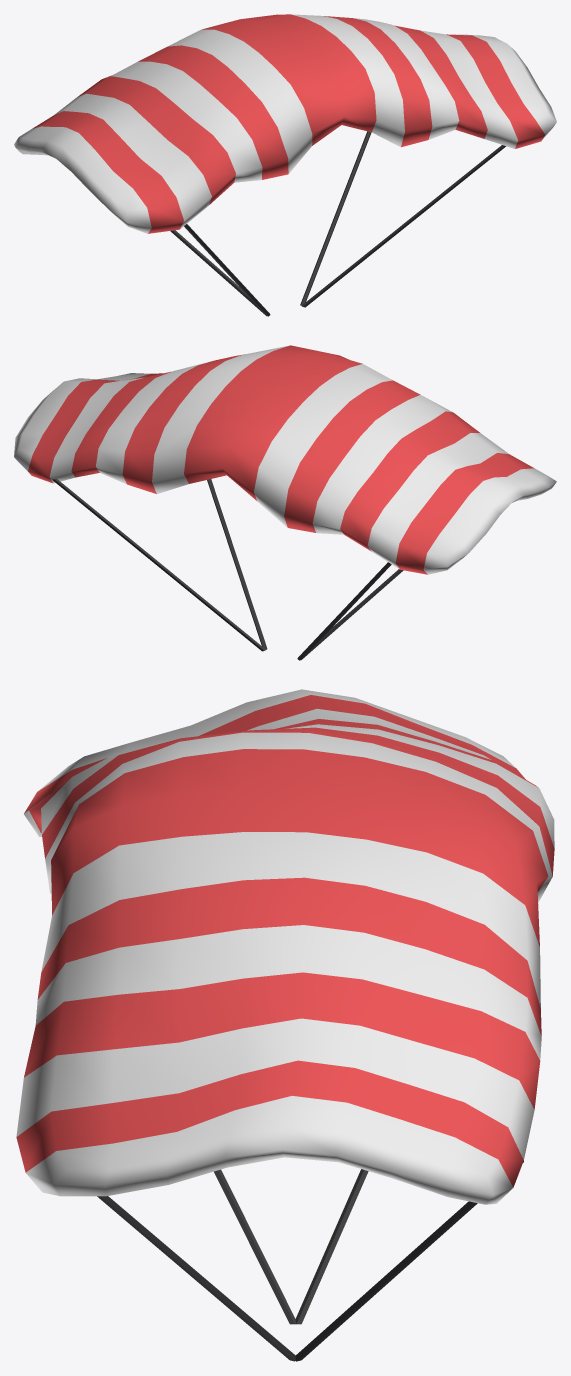
File: ParachuteAnimation.fbx
The picture shows the model from 3 angles, top to bottom: view 1: azimuth 30°, elevation 25°; view 2: azimuth 150°, elevation 25°; view 3: azimuth 270°, elevation 25°; orthographic projection. The views are drawn at different scales.
Visible parts, largest first — view 1: Parachute; view 2: Parachute; view 3: Parachute.
Boxes of the visible parts, x1,y1,x2,y2 form: Parachute: (14,14,556,316); Parachute: (14,345,556,660); Parachute: (16,689,554,1361).
Size of the model in its own units: 364 by 210 by 185.
